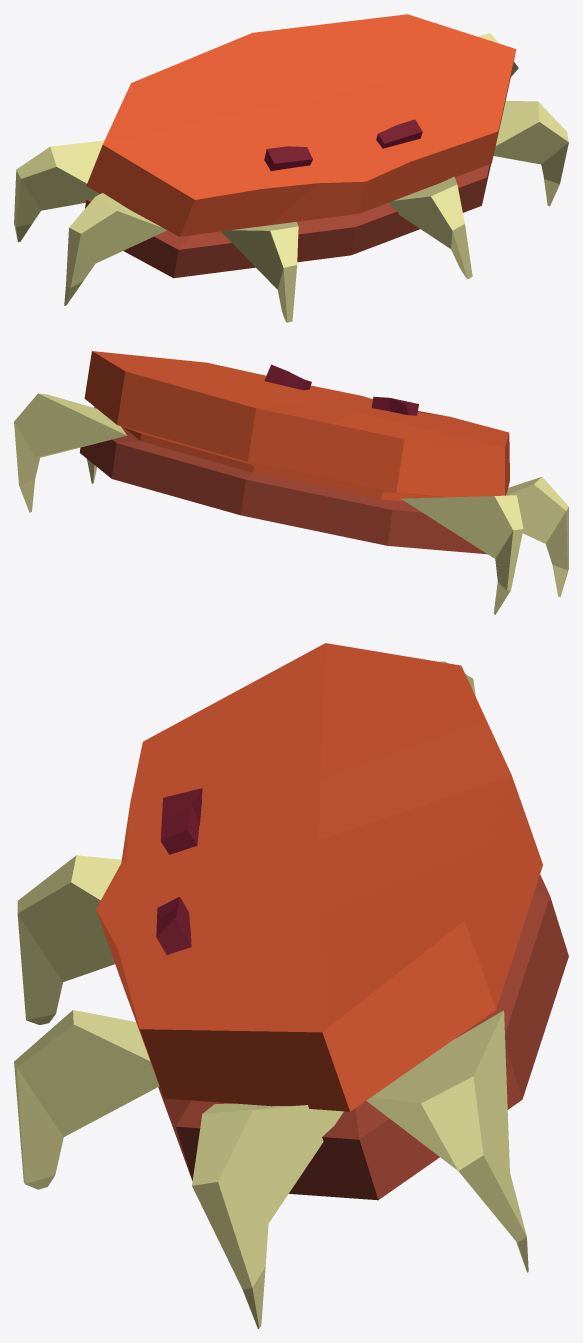
Rendered from craler.glb.
The picture shows the model from 3 angles, top to bottom: view 1: azimuth 30°, elevation 25°; view 2: azimuth 150°, elevation 25°; view 3: azimuth 270°, elevation 25°; orthographic projection. The views are drawn at different scales.
Visible parts, largest first — view 1: body, teethLeg.005, teethLeg.003, teethLeg.002, teethLeg, teethLeg.001, eye, eye1; view 2: body, teethLeg.004, teethLeg.005, teethLeg.003, eye1, eye; view 3: body, teethLeg.004, teethLeg.002, teethLeg.001, teethLeg, eye, eye1.
Part boxes in pixels (x1,y1,x2,y2): body: [85, 14, 516, 278]; teethLeg.005: [14, 140, 104, 242]; teethLeg.003: [64, 193, 166, 305]; teethLeg.002: [493, 101, 568, 206]; teethLeg: [221, 222, 298, 322]; teethLeg.001: [389, 176, 472, 279]; eye: [264, 146, 312, 170]; eye1: [376, 119, 422, 148]; body: [79, 351, 509, 554]; teethLeg.004: [14, 393, 126, 512]; teethLeg.005: [401, 495, 523, 614]; teethLeg.003: [506, 477, 568, 596]; eye1: [264, 364, 311, 390]; eye: [371, 396, 418, 415]; body: [96, 643, 568, 1200]; teethLeg.004: [366, 1010, 528, 1272]; teethLeg.002: [192, 1103, 343, 1328]; teethLeg.001: [14, 1010, 159, 1189]; teethLeg: [17, 855, 121, 1024]; eye: [160, 788, 202, 854]; eye1: [156, 896, 191, 954].
Bounding box in the file's own units: 2.5 × 0.8604 × 1.27.
